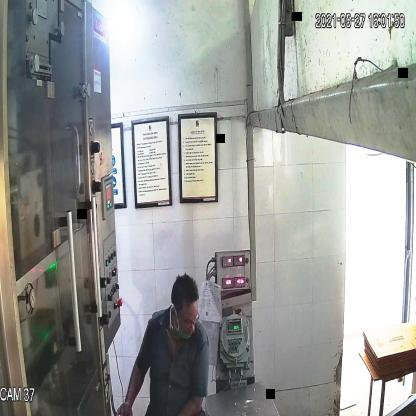goggles: (172, 303, 202, 339)
